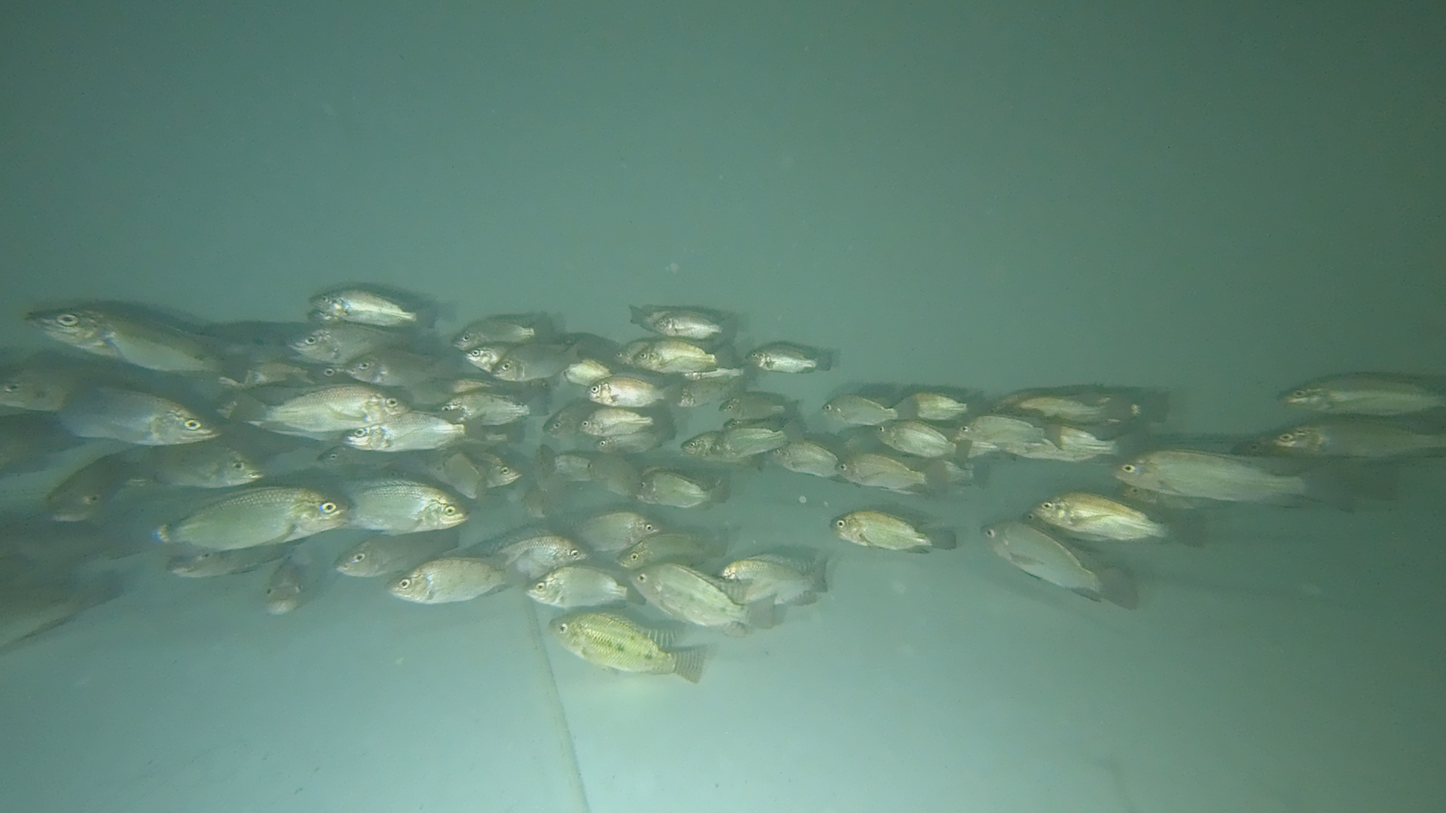fish: (227, 388, 412, 433), (310, 289, 434, 326), (583, 375, 682, 411), (630, 340, 734, 373), (743, 343, 831, 373)
